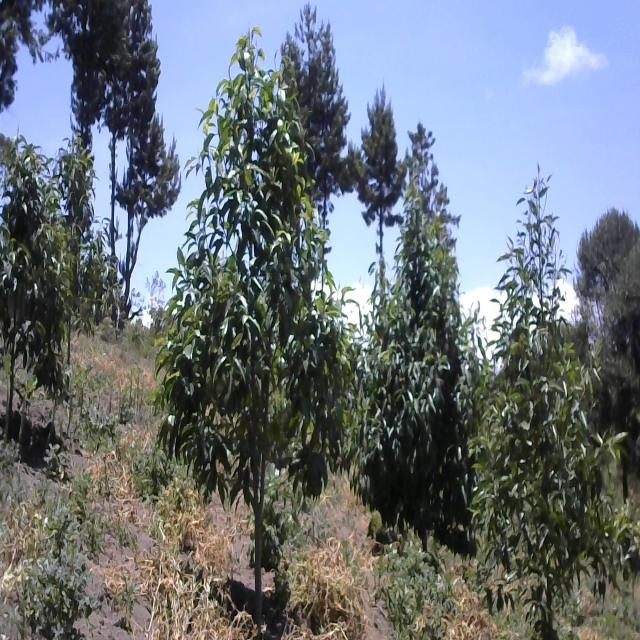Juniperus procesera: (275, 5, 360, 286), (357, 86, 404, 259)
Olea welwitchii: (170, 19, 350, 640), (495, 160, 631, 633), (7, 130, 70, 432)
Prunus Africana: (365, 144, 466, 574)
